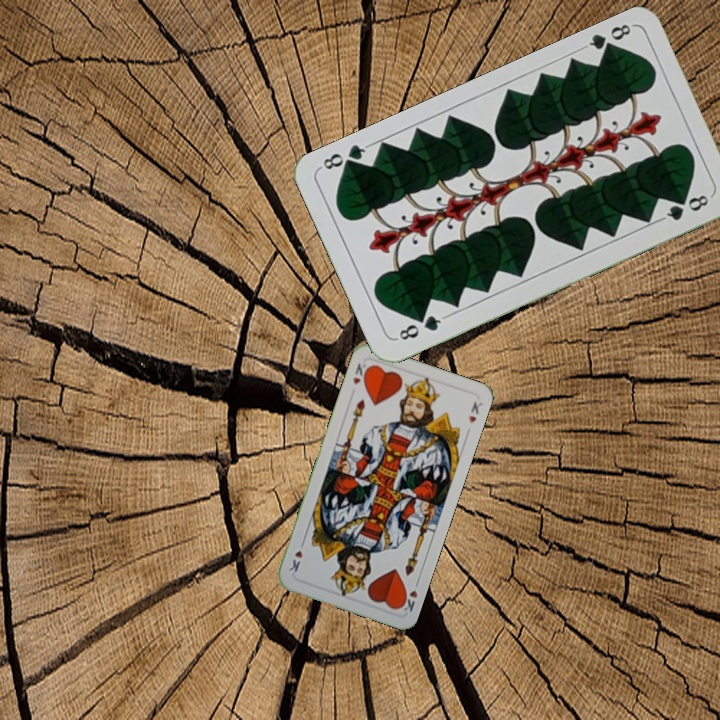G8: (579, 19, 635, 58), (392, 311, 448, 343)
HK: (395, 576, 422, 615), (349, 359, 372, 387)
